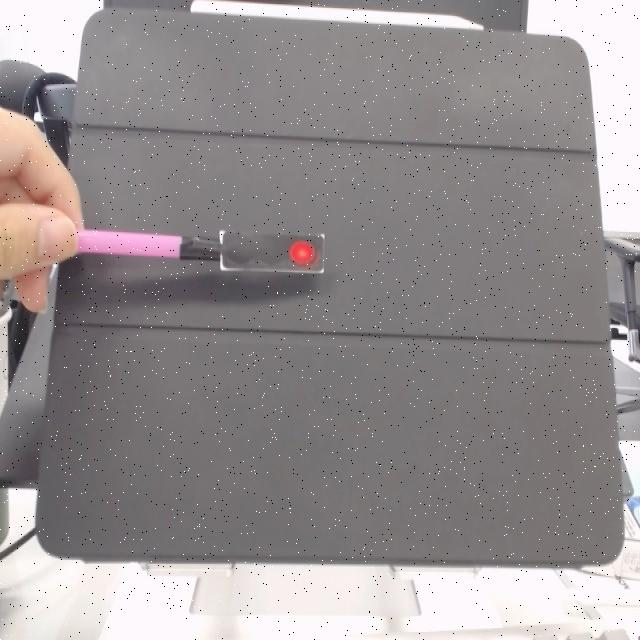traffic light: (219, 229, 325, 287)
